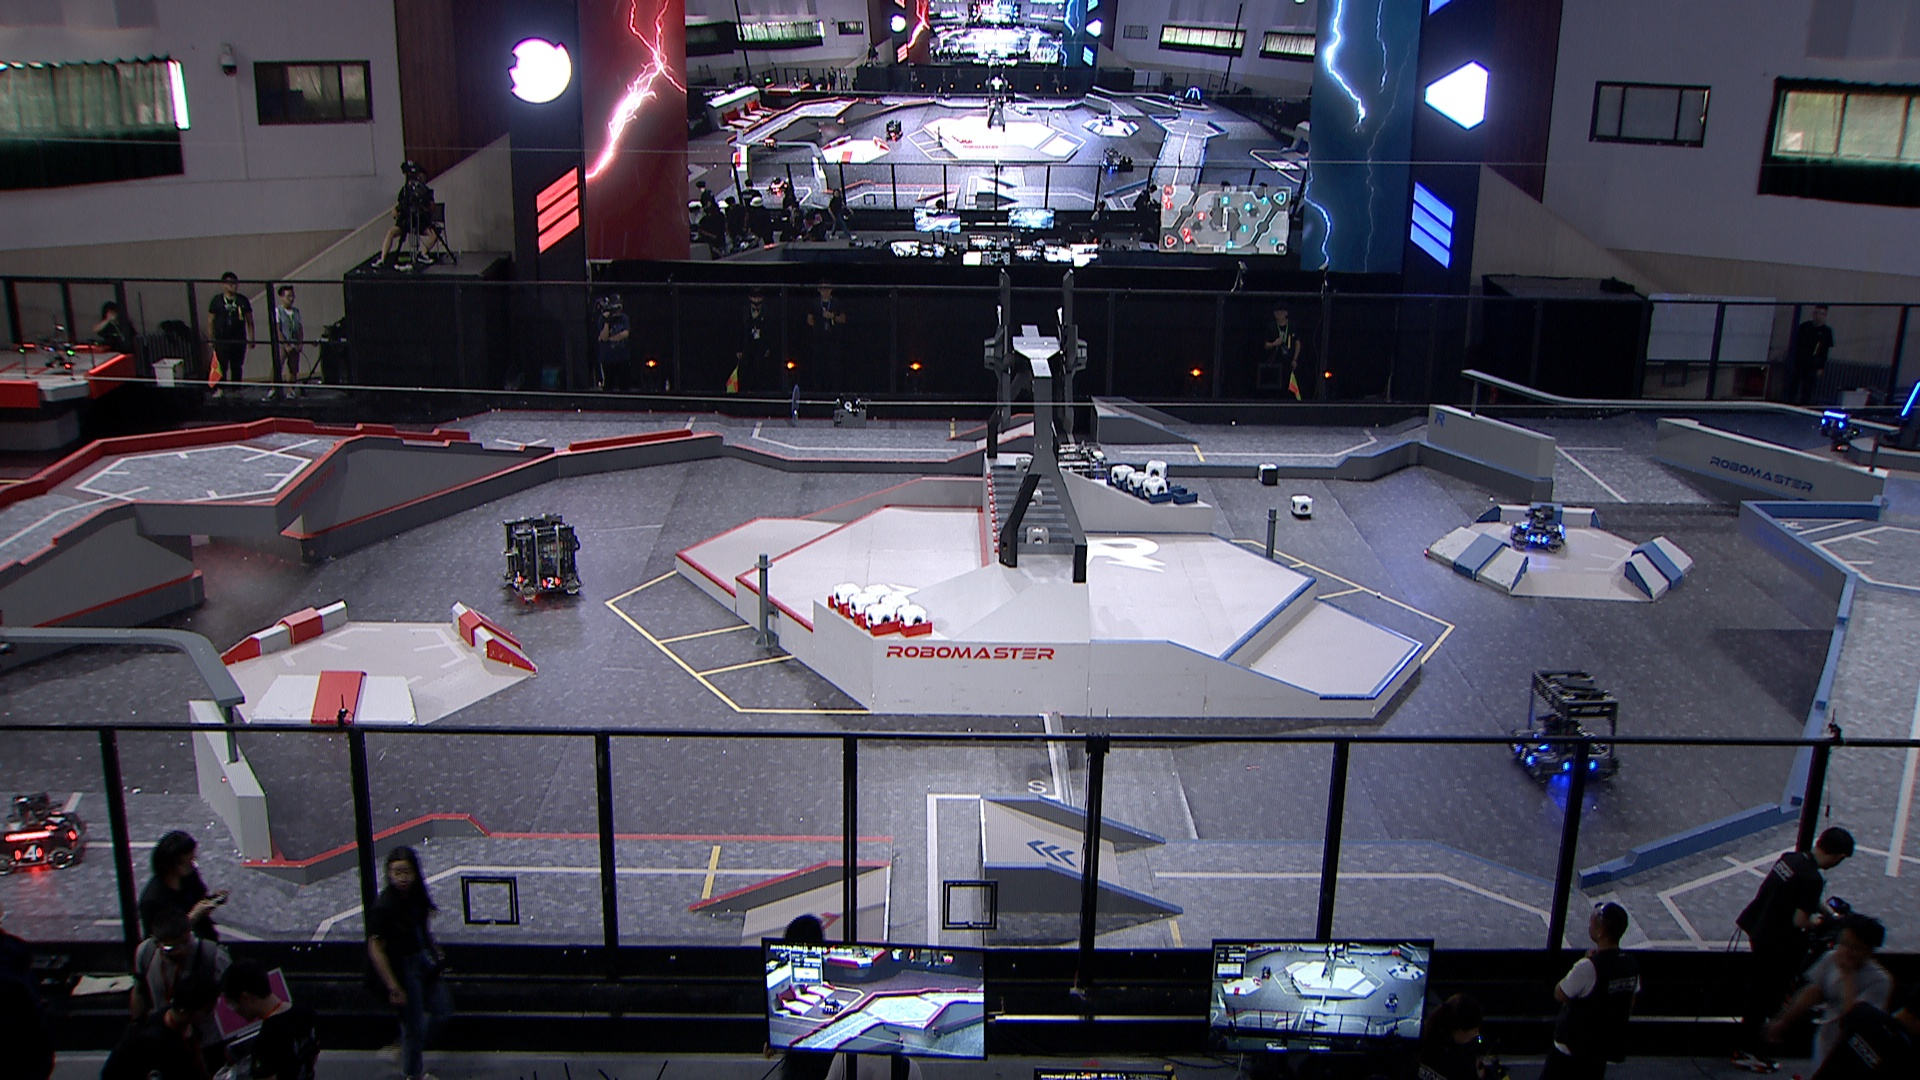armor: (1899, 380, 1920, 418), (11, 843, 45, 864), (44, 808, 67, 831), (1514, 744, 1534, 766), (67, 822, 86, 843), (538, 575, 560, 589), (1820, 417, 1845, 429), (1528, 533, 1548, 547), (509, 570, 526, 585)
base: (1880, 363, 1920, 458)
car: (1505, 670, 1622, 785), (498, 513, 583, 603), (1039, 440, 1112, 520), (1510, 504, 1567, 553)
ignore: (1097, 145, 1124, 174), (1182, 86, 1204, 107), (884, 119, 905, 140), (766, 175, 790, 194), (761, 135, 775, 152), (1101, 113, 1114, 129)
watcher: (1817, 405, 1861, 452)
